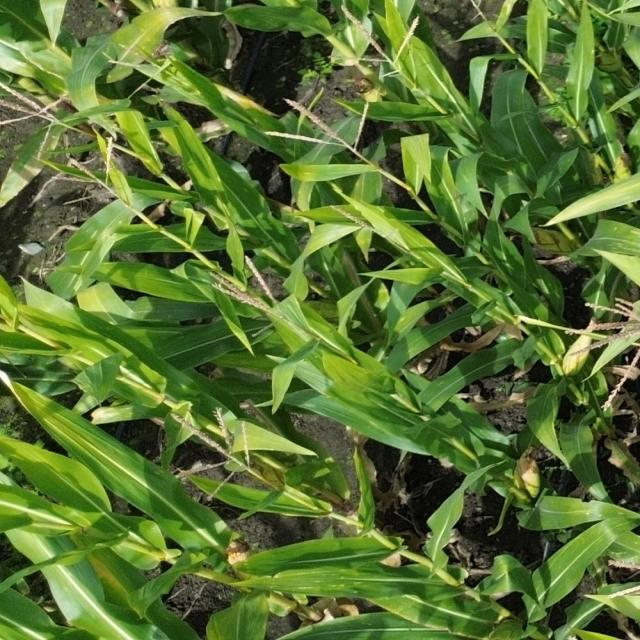gray-leaf-spot: (74, 214, 130, 240), (574, 190, 640, 212), (603, 216, 640, 254)
northern-leaf-blight: (335, 256, 385, 322), (78, 546, 132, 598), (12, 134, 57, 184)
southern-leaf-blight: (291, 564, 379, 596), (126, 12, 172, 56), (450, 198, 484, 240), (581, 504, 632, 530), (566, 450, 599, 490)
